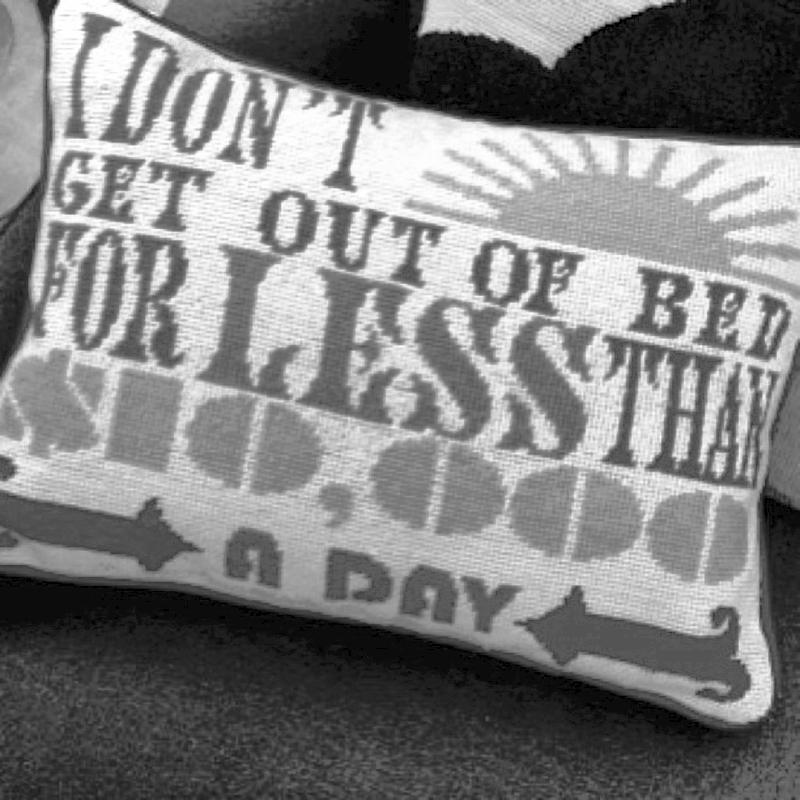pillow: (0, 0, 798, 724)
